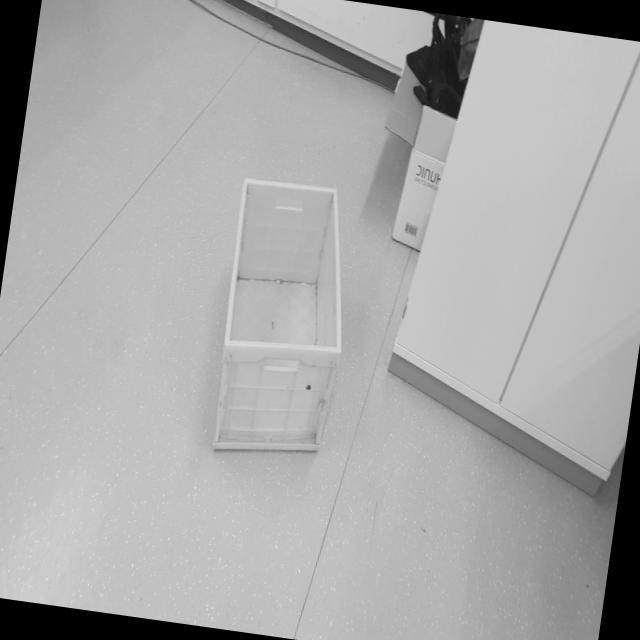box: (196, 162, 373, 481)
